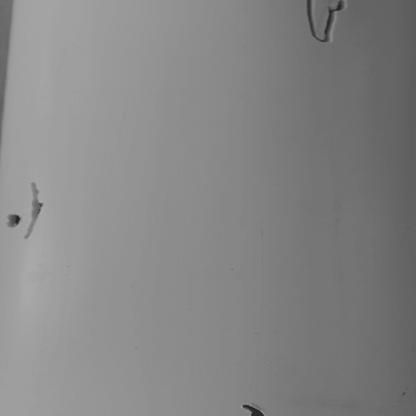fengxi: (290, 1, 352, 47)
kongdong: (26, 175, 47, 240), (236, 396, 268, 415), (4, 208, 28, 227)
